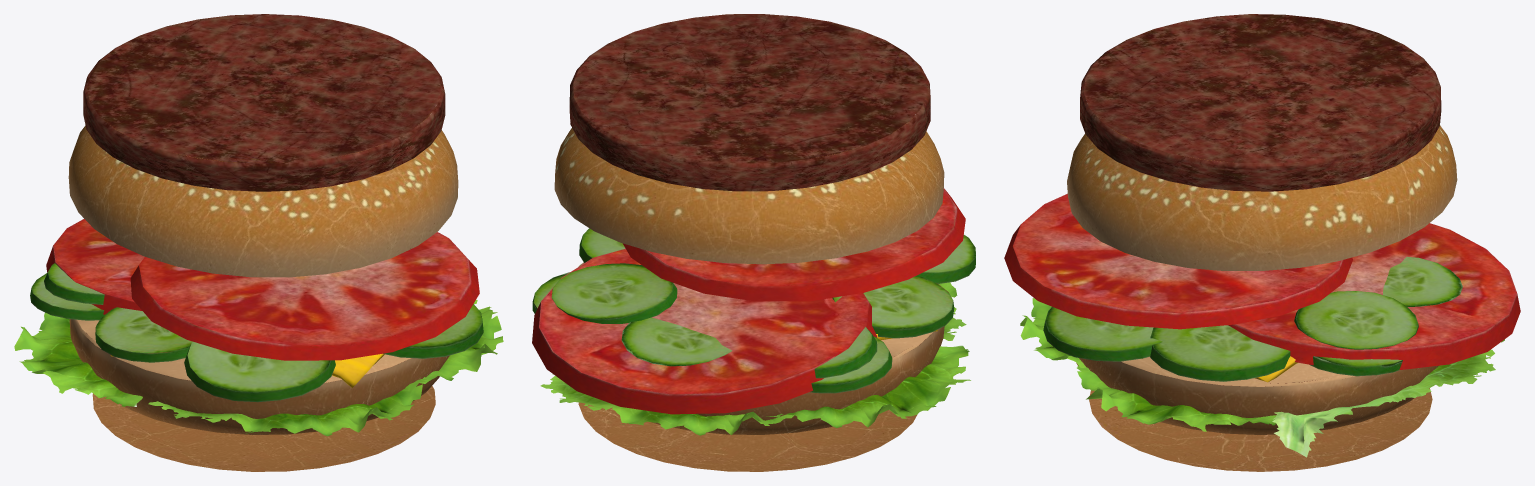
The model's file is classic-smash-burger-balanced.glb.
The picture shows the model from 3 angles, left to right: view 1: azimuth 30°, elevation 25°; view 2: azimuth 150°, elevation 25°; view 3: azimuth 270°, elevation 25°; orthographic projection.
Parts seen in each view (by area): view 1: Burger_Patty_Top, Burger_Top_Bun_Full, Burger_Tomato_Front, Burger_Cucumbers, Burger_Bottom_Bun, Burger_Paper_Wrap, Burger_Tomato_Back, pPlane16_lettuce_001_0, pPlane17_lettuce_001_0, pPlane14_lettuce_001_0, Burger_Cheese; view 2: Burger_Patty_Top, Burger_Top_Bun_Full, Burger_Tomato_Back, Burger_Cucumbers, Burger_Tomato_Front, Burger_Paper_Wrap, Burger_Bottom_Bun, pPlane16_lettuce_001_0, pPlane15_lettuce_001_0; view 3: Burger_Patty_Top, Burger_Top_Bun_Full, Burger_Tomato_Front, Burger_Cucumbers, Burger_Tomato_Back, Burger_Bottom_Bun, Burger_Paper_Wrap, pPlane15_lettuce_001_0, pPlane14_lettuce_001_0, pPlane17_lettuce_001_0.
Boxes of the visible parts, <box> form: Burger_Patty_Top: <box>83,14,445,191</box>; Burger_Top_Bun_Full: <box>68,121,458,277</box>; Burger_Tomato_Front: <box>130,232,479,360</box>; Burger_Cucumbers: <box>30,263,483,402</box>; Burger_Bottom_Bun: <box>69,319,449,434</box>; Burger_Paper_Wrap: <box>92,386,435,471</box>; Burger_Tomato_Back: <box>46,219,144,314</box>; pPlane16_lettuce_001_0: <box>14,312,142,406</box>; pPlane17_lettuce_001_0: <box>148,379,426,436</box>; pPlane14_lettuce_001_0: <box>419,299,503,383</box>; Burger_Cheese: <box>110,353,384,387</box>; Burger_Patty_Top: <box>569,14,930,191</box>; Burger_Top_Bun_Full: <box>554,118,944,264</box>; Burger_Tomato_Back: <box>532,248,876,414</box>; Burger_Cucumbers: <box>532,228,975,393</box>; Burger_Tomato_Front: <box>623,188,965,301</box>; Burger_Paper_Wrap: <box>578,402,917,471</box>; Burger_Bottom_Bun: <box>578,262,944,434</box>; pPlane16_lettuce_001_0: <box>762,345,970,427</box>; pPlane15_lettuce_001_0: <box>540,374,794,435</box>; Burger_Patty_Top: <box>1080,14,1441,191</box>; Burger_Top_Bun_Full: <box>1067,125,1457,270</box>; Burger_Tomato_Front: <box>1004,193,1352,329</box>; Burger_Cucumbers: <box>1043,256,1462,381</box>; Burger_Tomato_Back: <box>1228,223,1520,369</box>; Burger_Bottom_Bun: <box>1076,357,1438,434</box>; Burger_Paper_Wrap: <box>1089,388,1432,471</box>; pPlane15_lettuce_001_0: <box>1272,339,1504,457</box>; pPlane14_lettuce_001_0: <box>1077,366,1276,431</box>; pPlane17_lettuce_001_0: <box>1020,298,1085,367</box>.
Size of the model in its own units: 1.68 by 1.22 by 1.81.
Materials: 3 (3 with a texture image).
